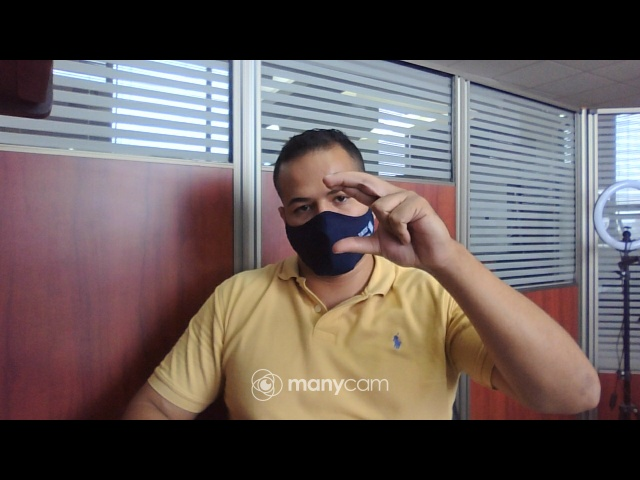No: (321, 171, 459, 275)
